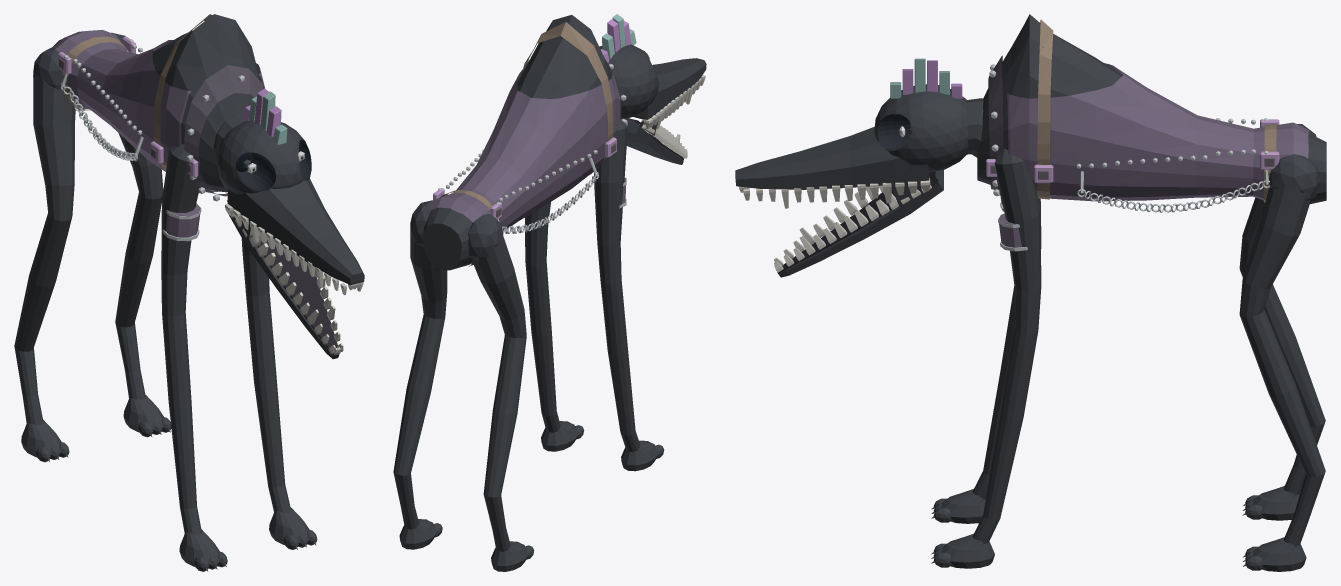
The model's file is LongmawPunk.glb.
3 views of the same model, side by side, from view 1: azimuth 30°, elevation 25°; view 2: azimuth 150°, elevation 25°; view 3: azimuth 270°, elevation 25° (orthographic). The views are drawn at different scales.
Parts seen in each view (by area): view 1: Body, Head, LegR, ArmR, LegL, ArmL; view 2: Body, LegR, ArmR, LegL, Head, ArmL; view 3: Body, Head, LegL, ArmL, LegR, ArmR.
Boxes of the visible parts, bbox=[...] form: Body: bbox=[52, 14, 265, 201]; Head: bbox=[213, 88, 364, 359]; LegR: bbox=[14, 47, 75, 462]; ArmR: bbox=[161, 144, 227, 571]; LegL: bbox=[111, 32, 171, 437]; ArmL: bbox=[241, 238, 317, 549]; Body: bbox=[423, 15, 627, 270]; LegR: bbox=[468, 214, 534, 571]; ArmR: bbox=[594, 119, 664, 471]; LegL: bbox=[393, 200, 447, 549]; Head: bbox=[599, 14, 706, 164]; ArmL: bbox=[524, 202, 584, 451]; Body: bbox=[977, 14, 1326, 212]; Head: bbox=[735, 58, 983, 277]; LegL: bbox=[1239, 154, 1325, 571]; ArmL: bbox=[931, 148, 1041, 568]; LegR: bbox=[1239, 124, 1325, 520]; ArmR: bbox=[931, 197, 1041, 523].
Bounding box in the file's own units: 1.9 × 6.9 × 7.03.
